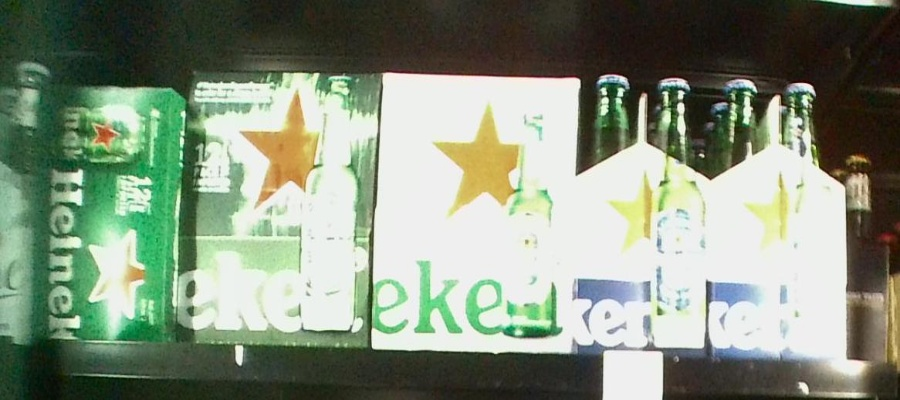bottle: (381, 65, 578, 354), (184, 66, 374, 350), (709, 72, 847, 359), (41, 85, 178, 345), (584, 72, 709, 356)
